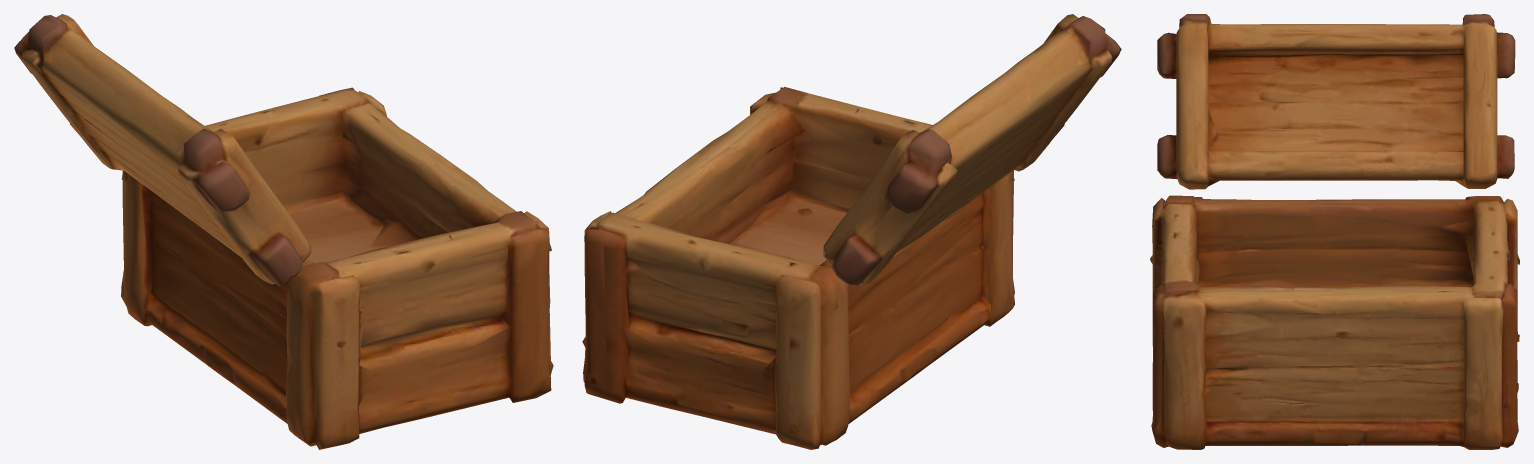
File: crate.glb
The picture shows the model from 3 angles, left to right: view 1: azimuth 30°, elevation 25°; view 2: azimuth 150°, elevation 25°; view 3: azimuth 270°, elevation 25°; orthographic projection. The views are drawn at different scales.
Parts seen in each view (by area): view 1: tripo_node_b5f83d76-1e01-48e2-8ff6-a4b04ecd97c4; view 2: tripo_node_b5f83d76-1e01-48e2-8ff6-a4b04ecd97c4; view 3: tripo_node_b5f83d76-1e01-48e2-8ff6-a4b04ecd97c4.
Part boxes in pixels (box(x1,y1,x2,y2)): tripo_node_b5f83d76-1e01-48e2-8ff6-a4b04ecd97c4: box(14, 14, 553, 449); tripo_node_b5f83d76-1e01-48e2-8ff6-a4b04ecd97c4: box(582, 14, 1121, 449); tripo_node_b5f83d76-1e01-48e2-8ff6-a4b04ecd97c4: box(1150, 14, 1519, 449).
Bounding box in the file's own units: 0.9993 × 0.8675 × 0.9901.
1 material, 1 textured.
